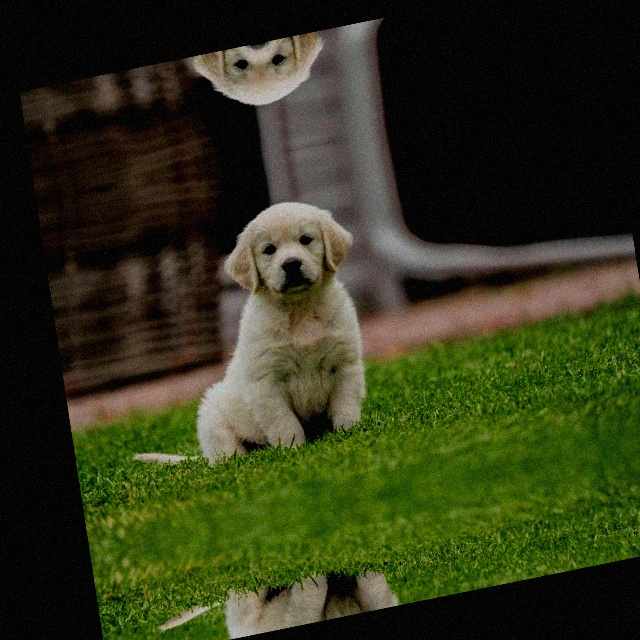dog: (154, 184, 379, 477), (130, 31, 326, 135), (209, 548, 404, 640)
